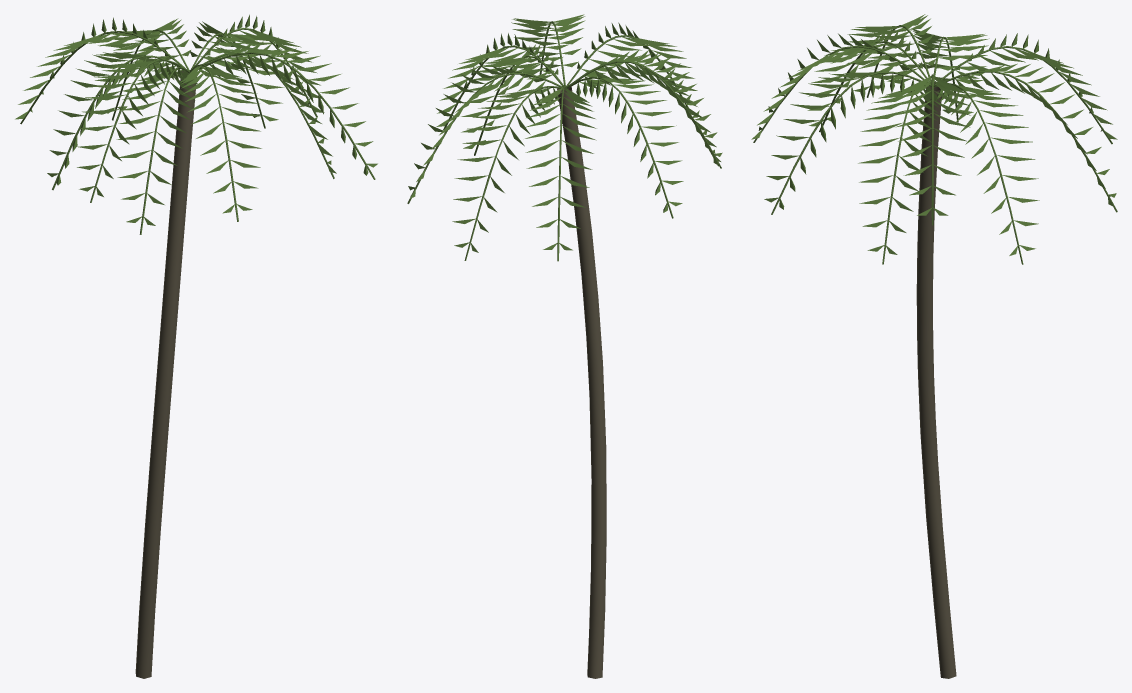
Rendered from prop_palm_lod1.glb.
3 views of the same model, side by side, from view 1: azimuth 30°, elevation 25°; view 2: azimuth 150°, elevation 25°; view 3: azimuth 270°, elevation 25° (orthographic). The views are drawn at different scales.
Parts seen in each view (by area): view 1: base__art06_leaf_sun, base__art06_weathered_bark; view 2: base__art06_leaf_sun, base__art06_weathered_bark; view 3: base__art06_leaf_sun, base__art06_weathered_bark.
Part boxes in pixels (x1,y1,x2,y2): base__art06_leaf_sun: (15,14,377,234); base__art06_weathered_bark: (135,70,196,678); base__art06_leaf_sun: (407,14,722,261); base__art06_weathered_bark: (557,86,606,678); base__art06_leaf_sun: (751,14,1117,264); base__art06_weathered_bark: (916,82,956,678).
Bounding box in the file's own units: 7.84 × 17.94 × 9.3.
